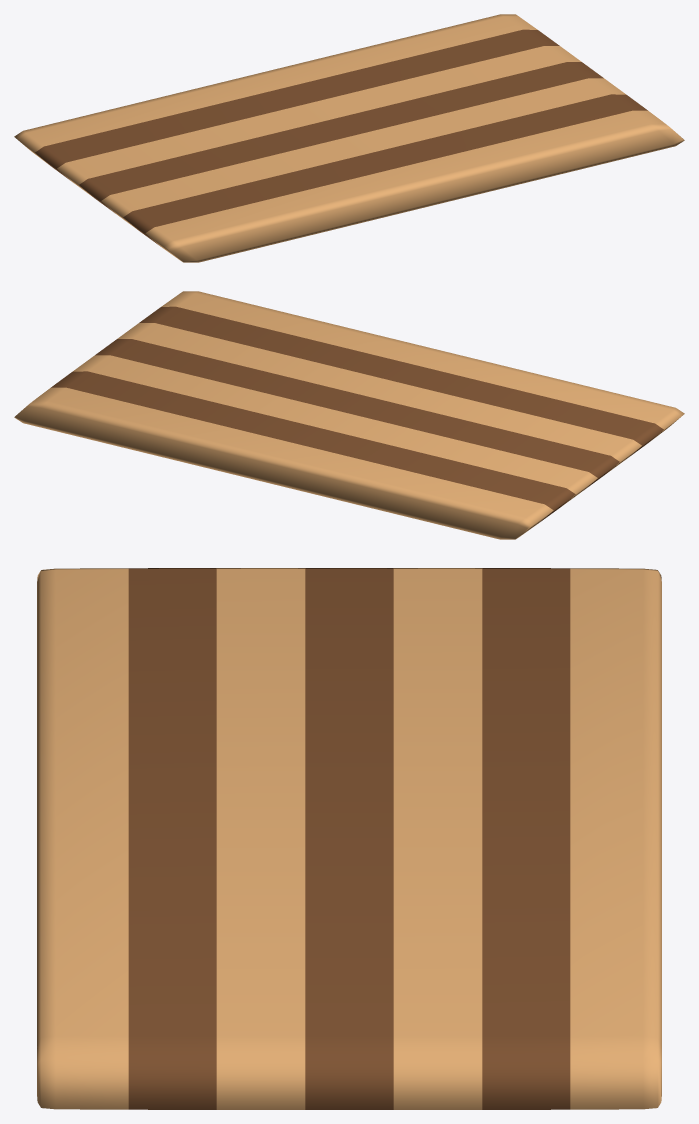
The model's file is CuttingBoard.fbx.
3 views of the same model, one above another, from view 1: azimuth 30°, elevation 25°; view 2: azimuth 150°, elevation 25°; view 3: azimuth 270°, elevation 25° (orthographic). The views are drawn at different scales.
Parts seen in each view (by area): view 1: WoodenCuttingBoard; view 2: WoodenCuttingBoard; view 3: WoodenCuttingBoard.
Part boxes in pixels (x1,y1,x2,y2): WoodenCuttingBoard: [14, 14, 684, 262]; WoodenCuttingBoard: [14, 291, 684, 539]; WoodenCuttingBoard: [37, 568, 661, 1109].
Size of the model in its own units: 102 by 4.77 by 53.24.
